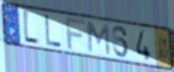4: (135, 29, 152, 63)
6: (111, 25, 129, 59)
F: (64, 16, 86, 51)
L: (21, 8, 40, 47), (44, 14, 63, 49)
M: (86, 20, 111, 57)
